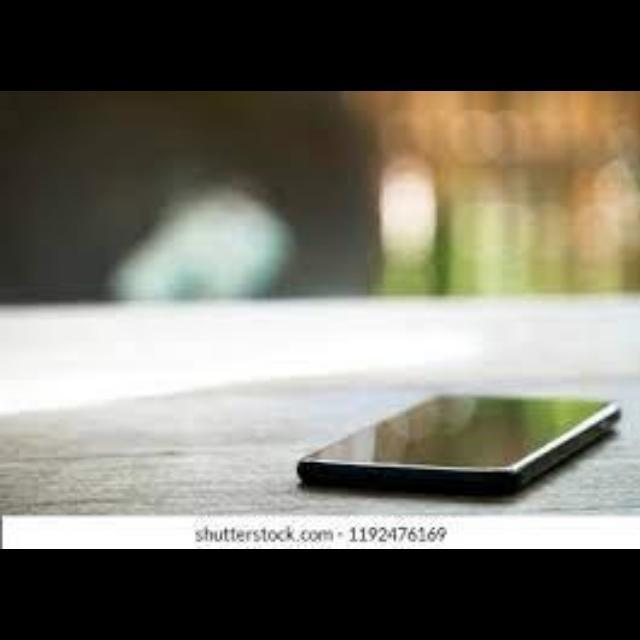phone: (278, 356, 630, 508)
